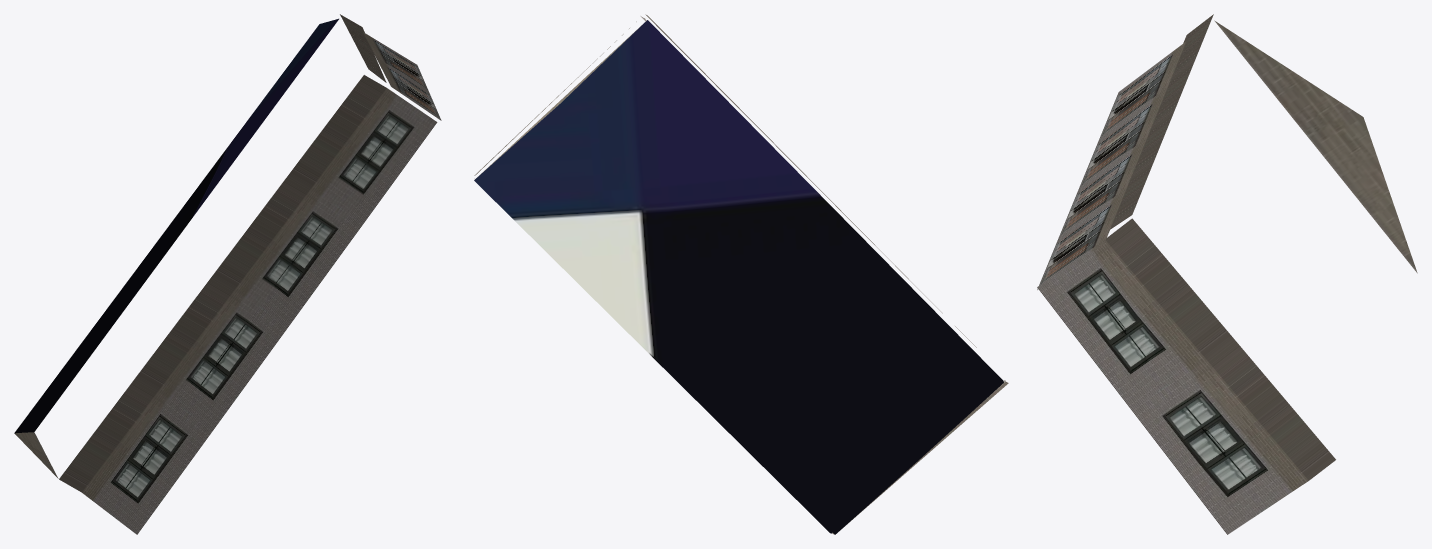
File: tile_LOD4_r4_c2.glb
3 renders of one model, left to right at view 1: azimuth 30°, elevation 25°; view 2: azimuth 150°, elevation 25°; view 3: azimuth 270°, elevation 25°, orthographic. The views are drawn at different scales.
Size of the model in its own units: 28 by 26.5 by 14.
5 materials, 5 textured.
